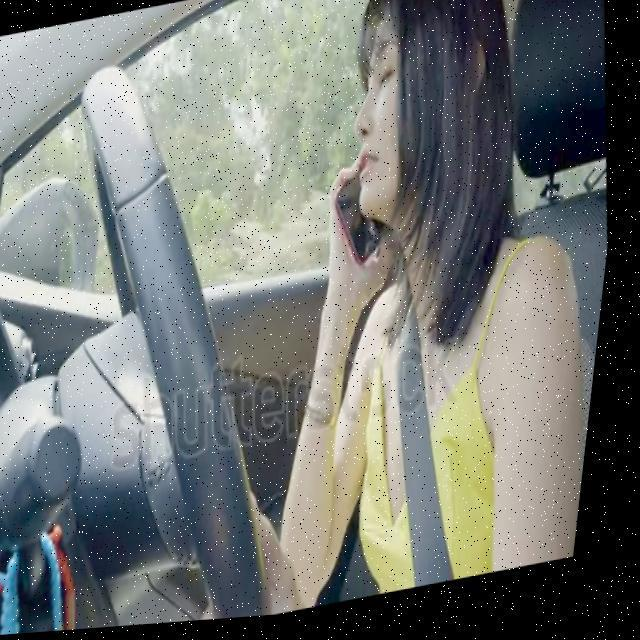PhoneCall: (323, 140, 415, 281)
